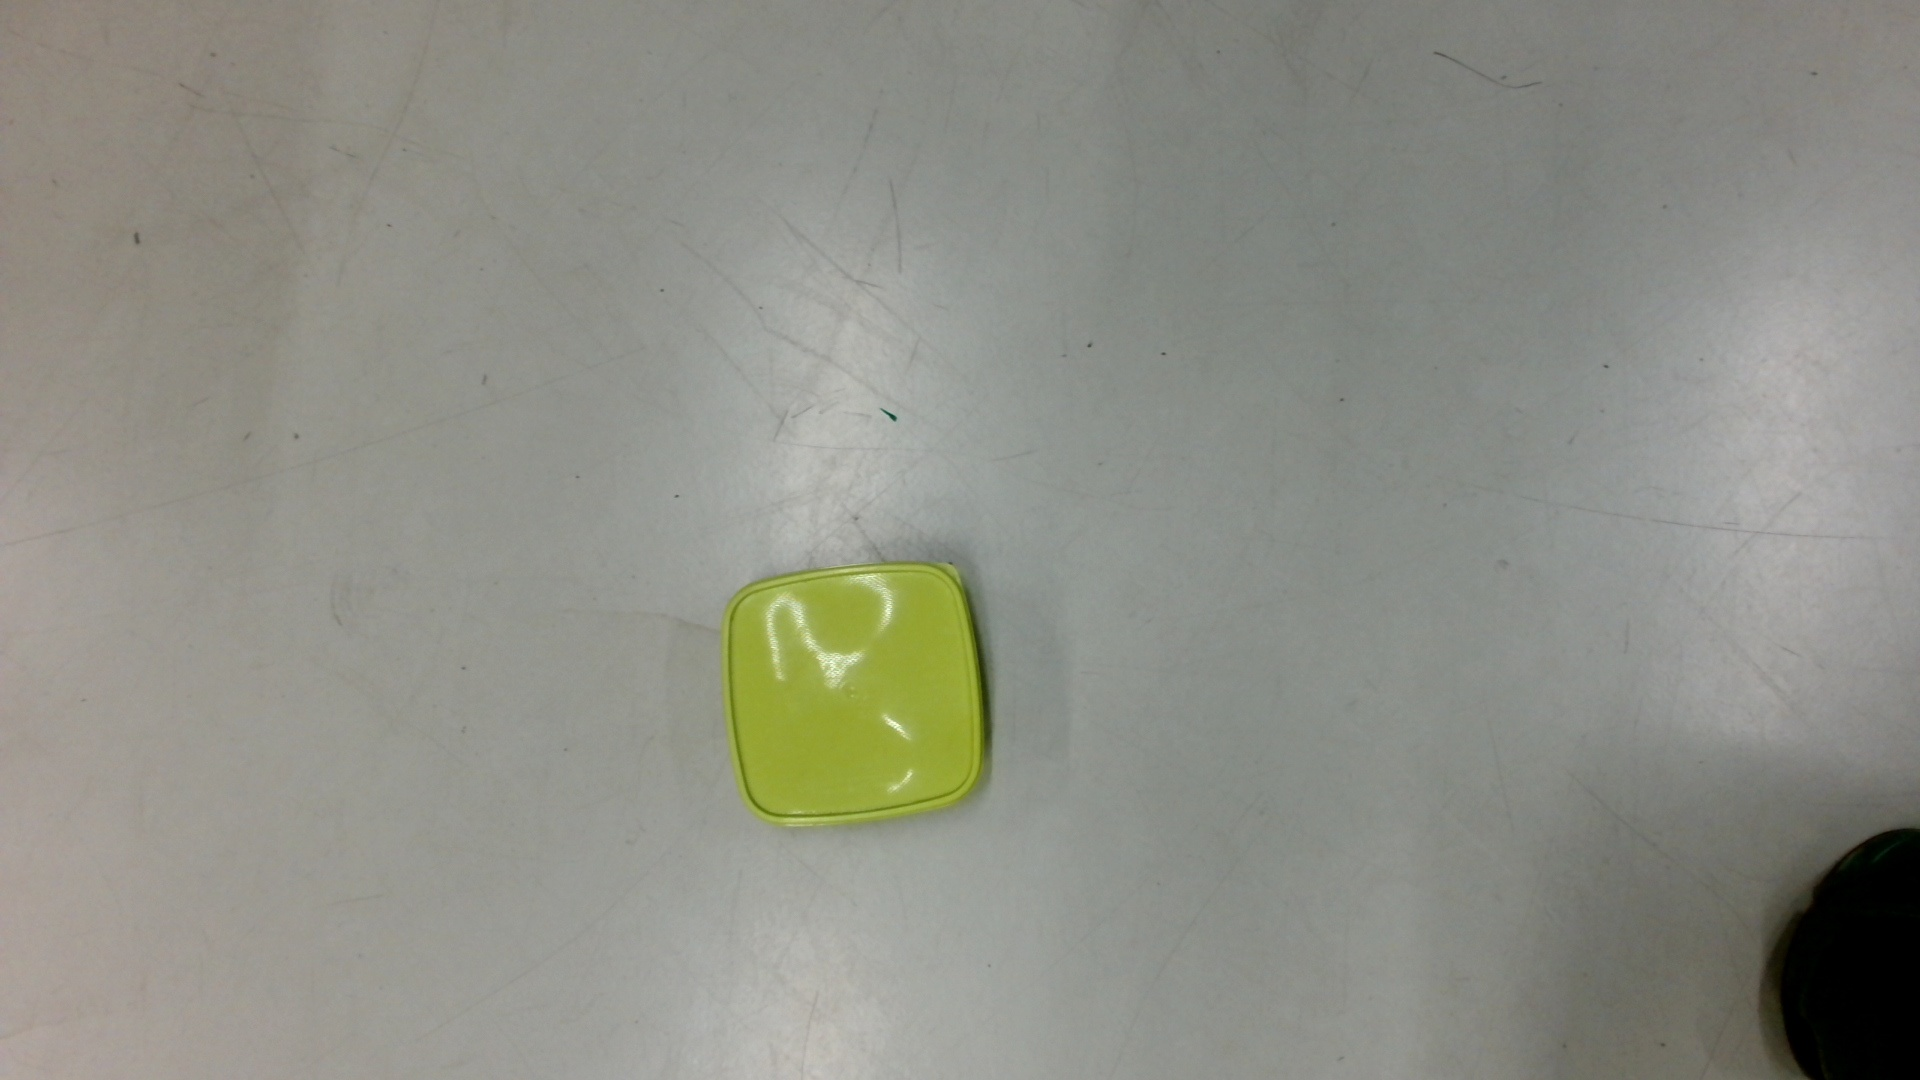Box: (714, 558, 998, 836)
